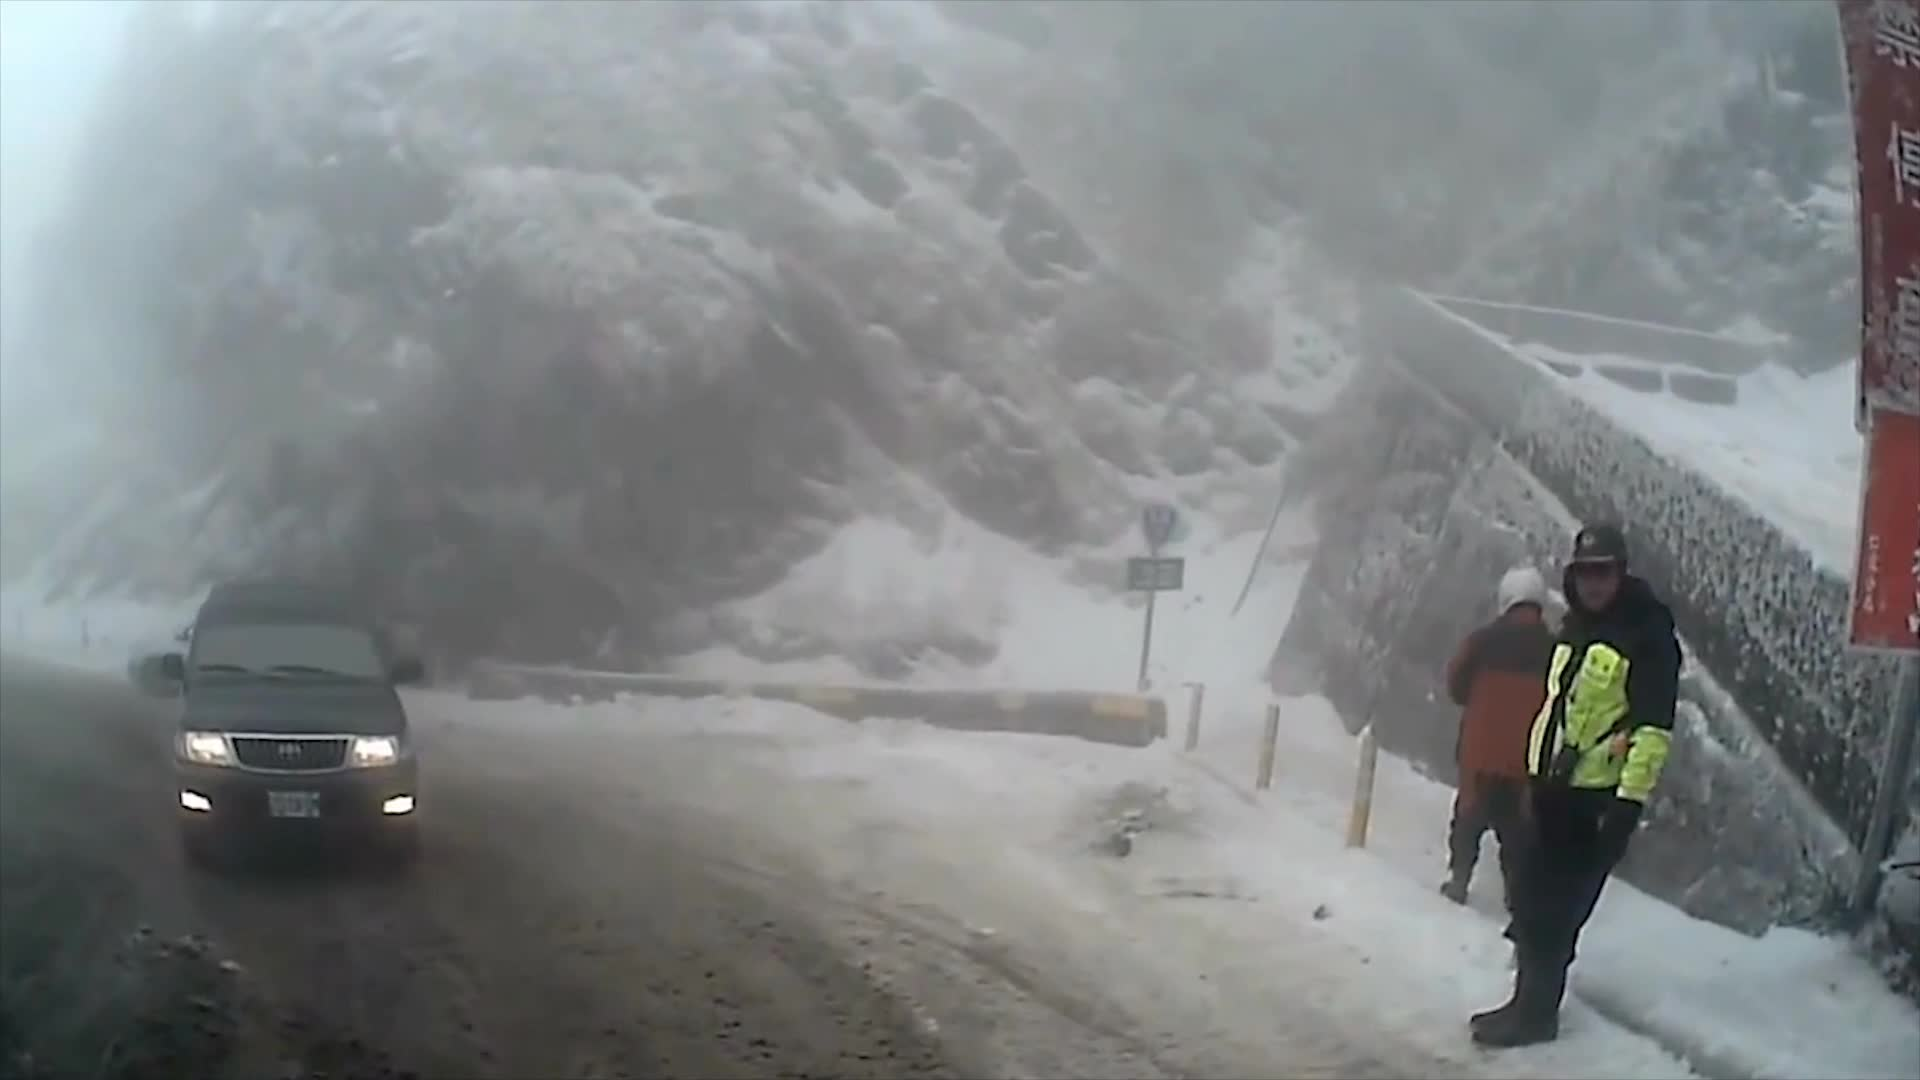pedestrian: (1468, 526, 1683, 1054), (1454, 558, 1581, 890)
vehicle: (157, 578, 422, 866)
